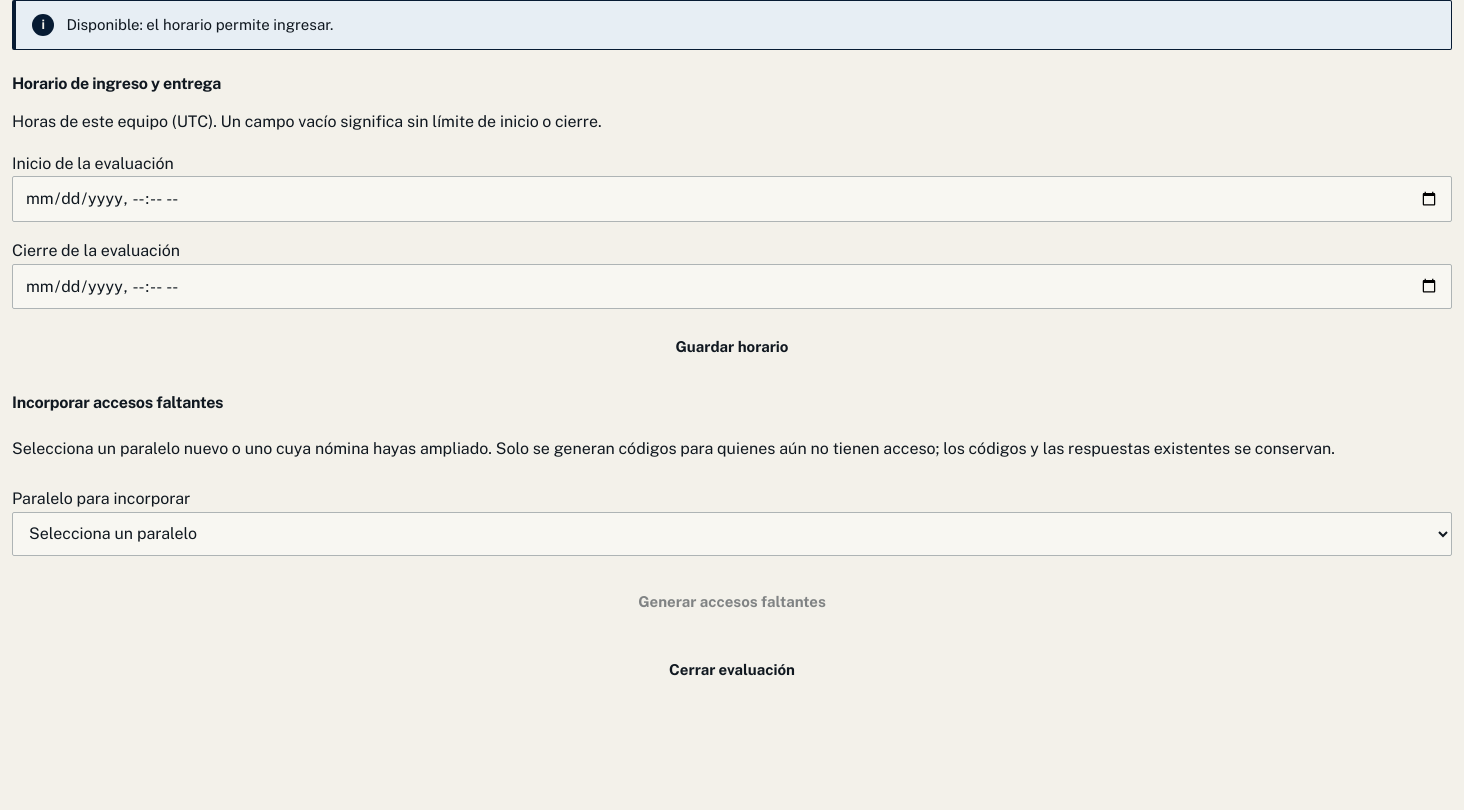
Test: incorpora el paralelo seleccionado sin regenerar los accesos existentes
Select "A (2026)" in the dropdown labelled "Paralelo para incorporar" at (732, 534), box x1=12 y1=512 x2=1452 y2=556
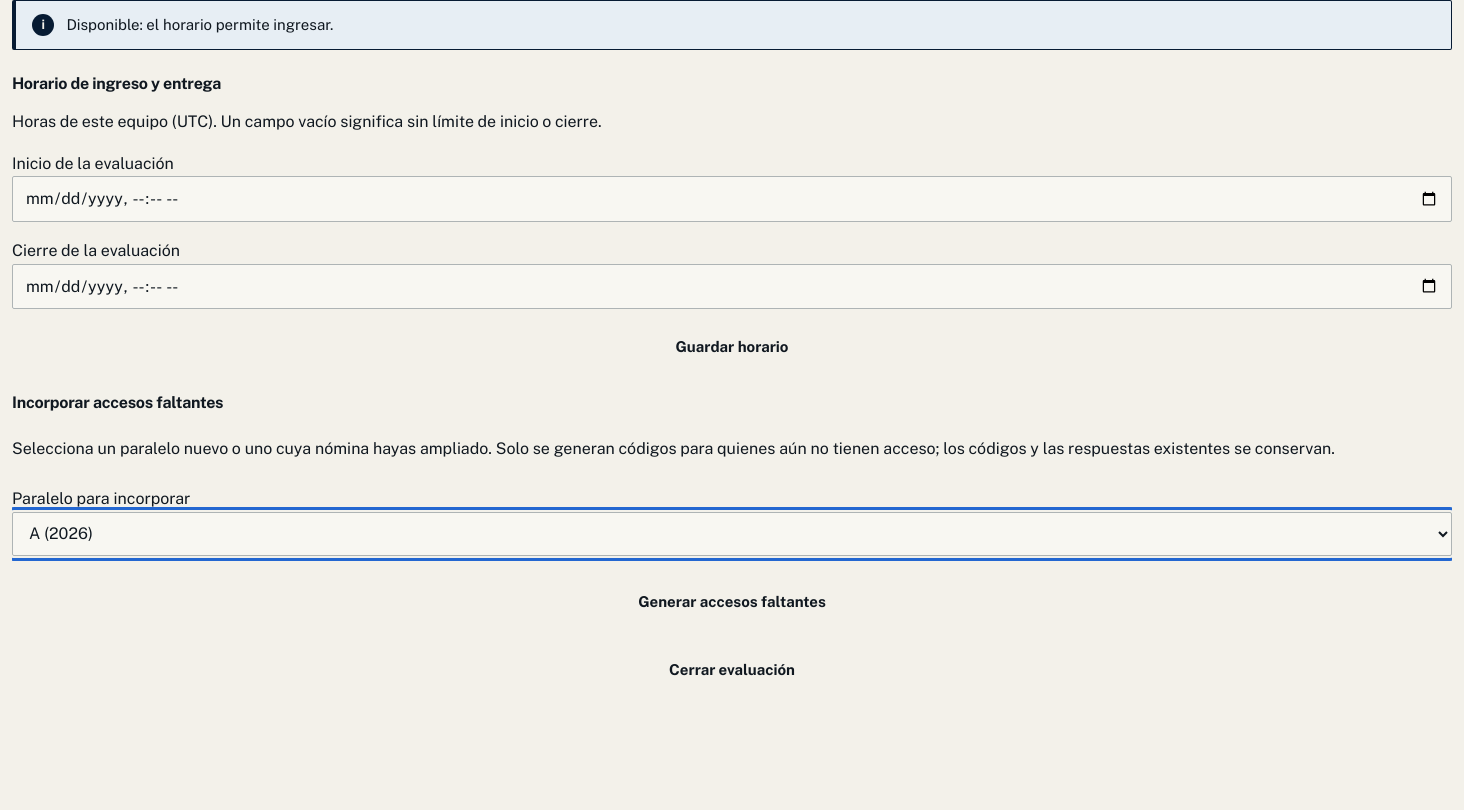
Click the button "Generar accesos faltantes" at (732, 602), box x1=12 y1=580 x2=1452 y2=624
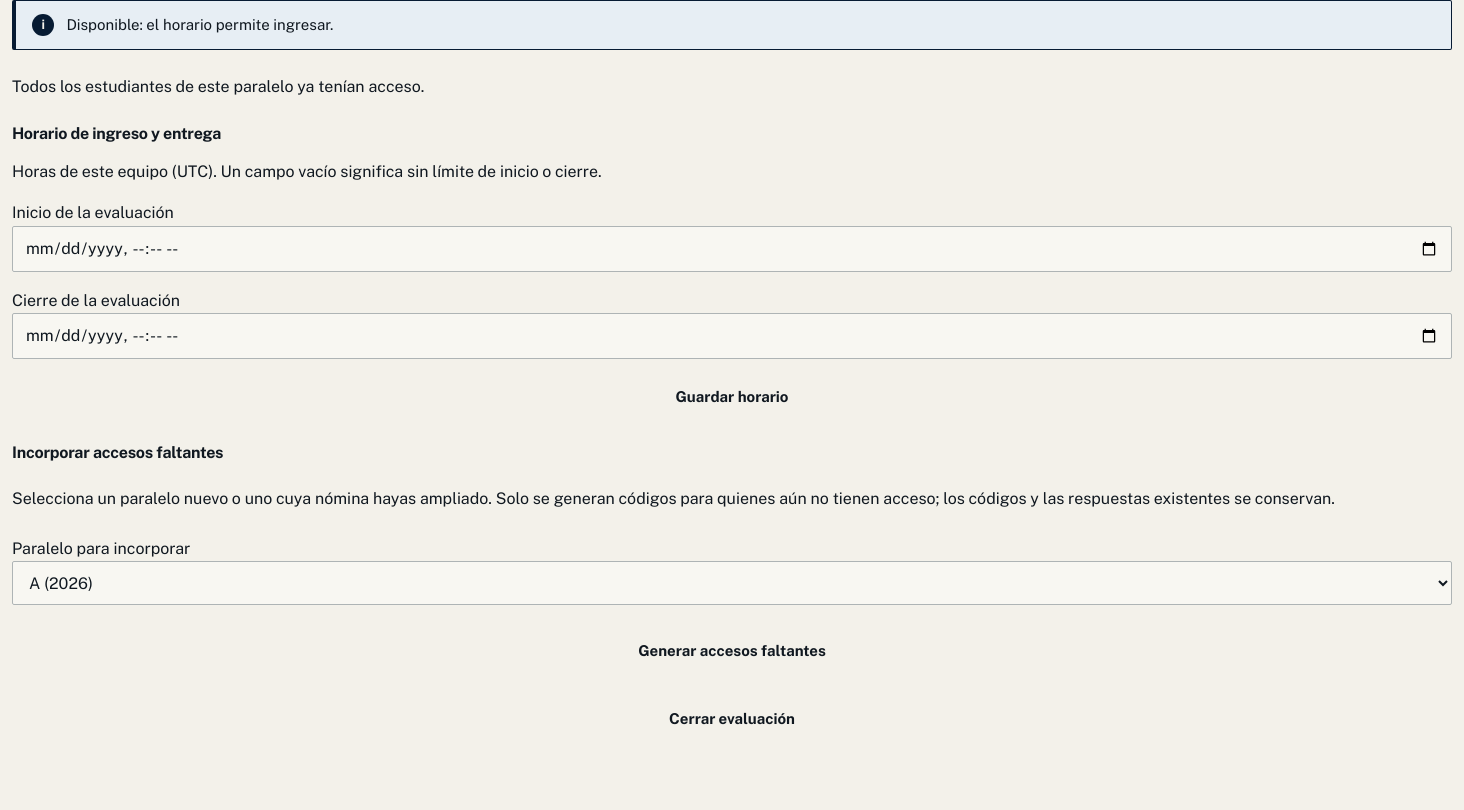
expect the text "Todos los estudiantes de este paralelo ya tenían acceso." is shown: met, box x1=12 y1=77 x2=424 y2=96
